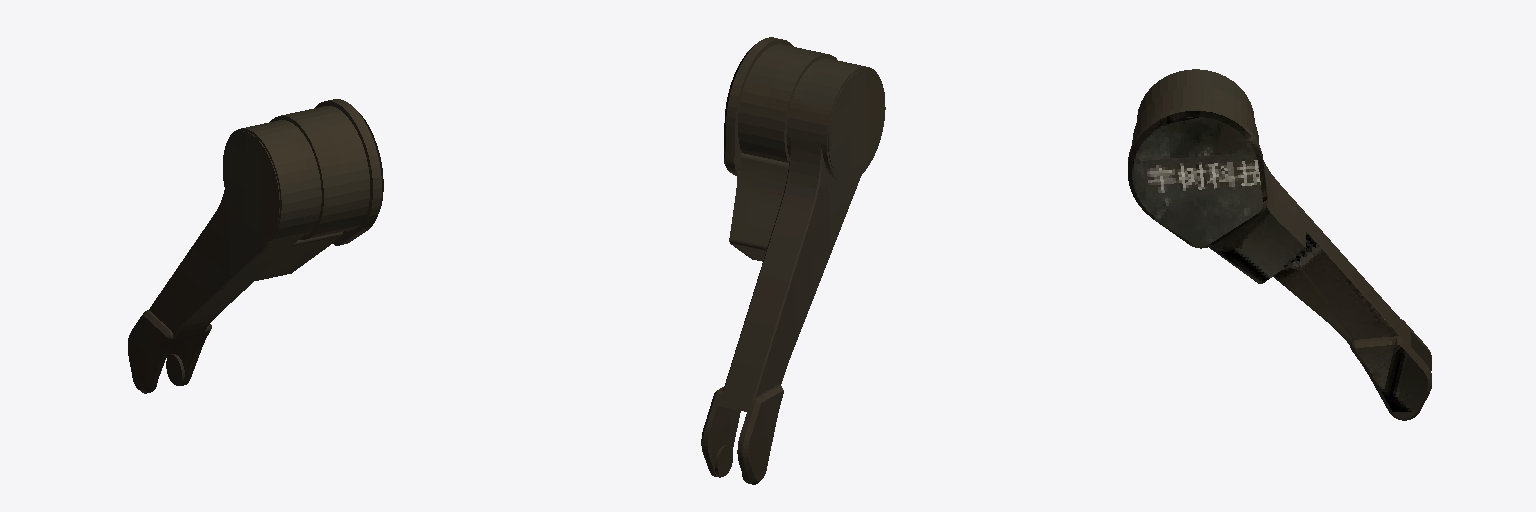
3 renders of one model, left to right at view 1: azimuth 30°, elevation 25°; view 2: azimuth 150°, elevation 25°; view 3: azimuth 270°, elevation 25°, orthographic.
Parts seen in each view (by area): view 1: EXP_OTL_-_EXP_OTL_FLA-1_EXP_OTL_FLA_FL2-1_median_joint_EXP_.000; view 2: EXP_OTL_-_EXP_OTL_FLA-1_EXP_OTL_FLA_FL2-1_median_joint_EXP_.000; view 3: EXP_OTL_-_EXP_OTL_FLA-1_EXP_OTL_FLA_FL2-1_median_joint_EXP_.000.
Boxes of the visible parts, x1,y1,x2,y2 form: EXP_OTL_-_EXP_OTL_FLA-1_EXP_OTL_FLA_FL2-1_median_joint_EXP_.000: [128, 99, 383, 393]; EXP_OTL_-_EXP_OTL_FLA-1_EXP_OTL_FLA_FL2-1_median_joint_EXP_.000: [701, 37, 885, 484]; EXP_OTL_-_EXP_OTL_FLA-1_EXP_OTL_FLA_FL2-1_median_joint_EXP_.000: [1128, 69, 1431, 420].
Bounding box in the file's own units: 0.0889 × 0.2618 × 0.2119.
Materials: 1 (1 with a texture image).